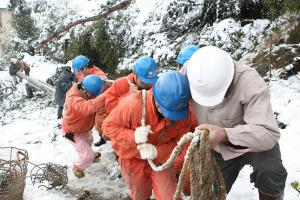helmet: (183, 47, 237, 107), (154, 72, 191, 121), (131, 54, 159, 89), (68, 53, 94, 79), (81, 73, 106, 97)
